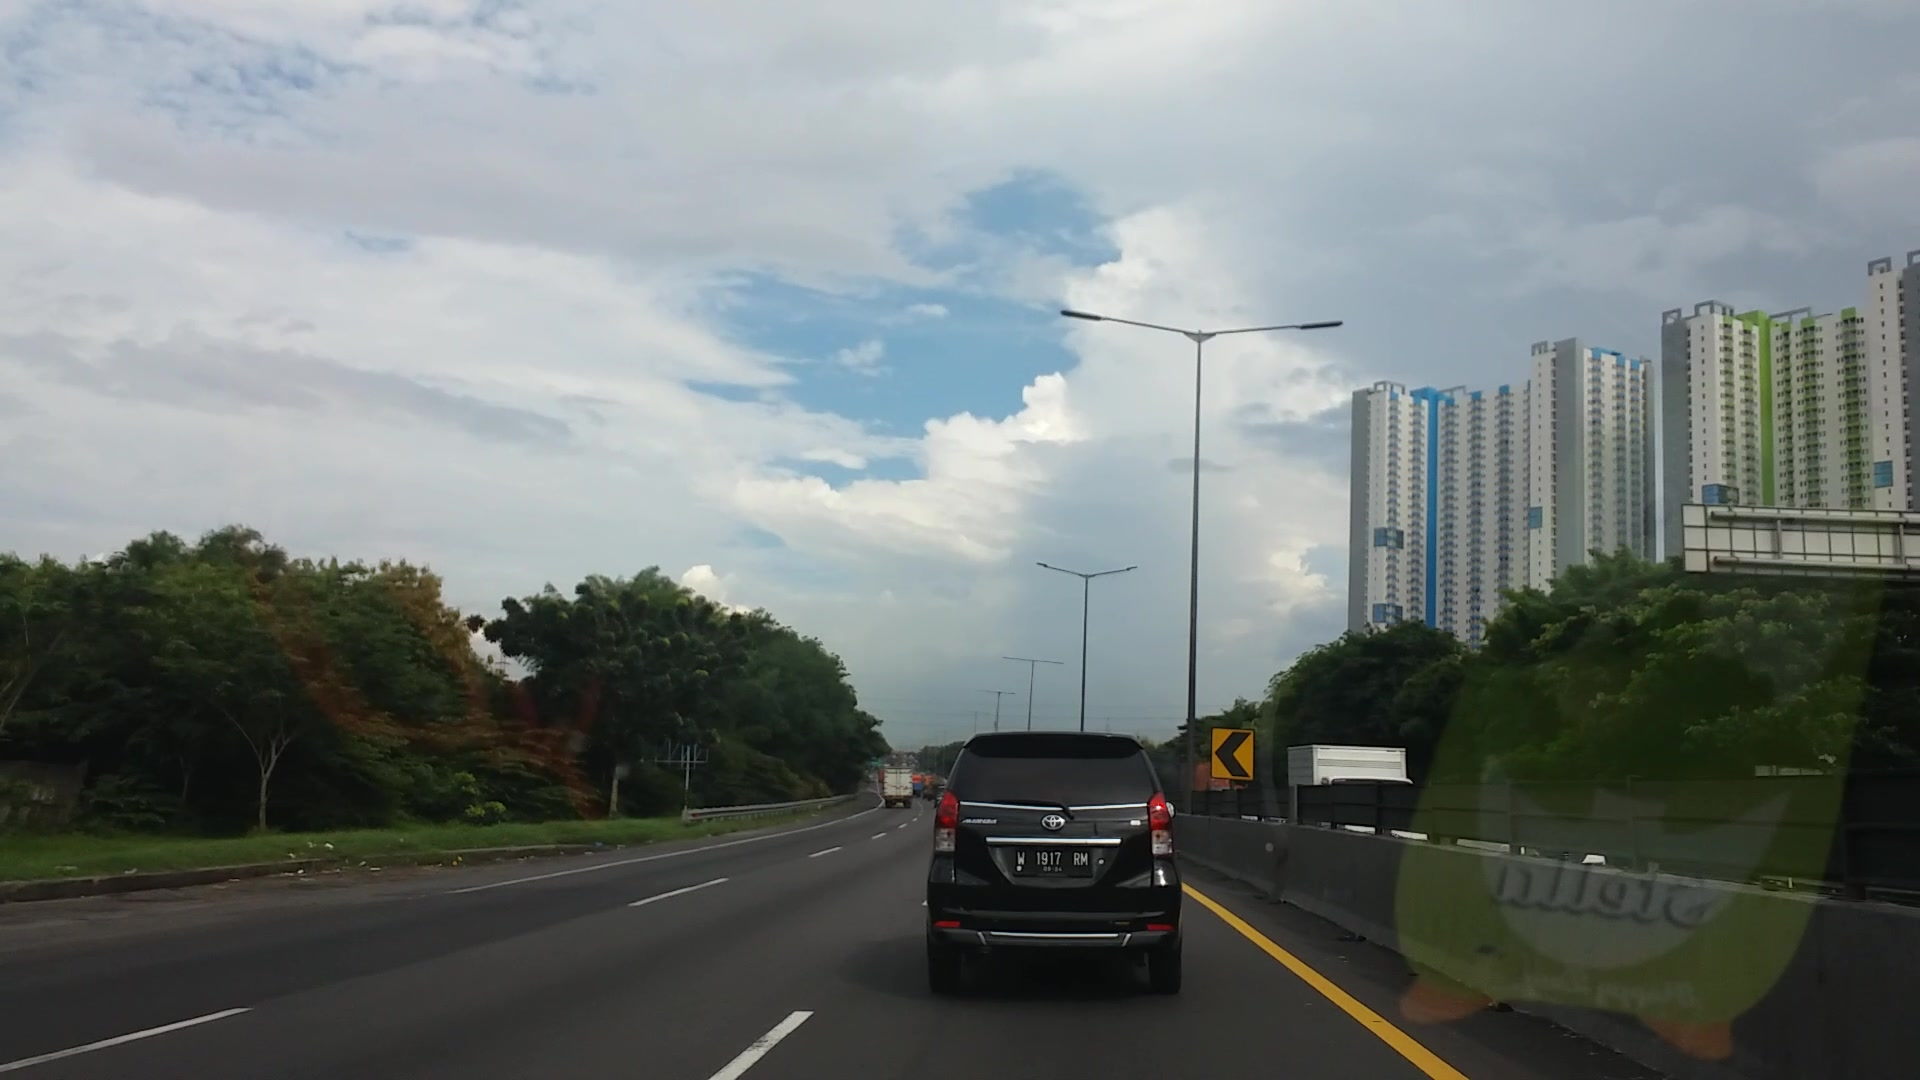plate_positive: (1013, 847, 1091, 874)
